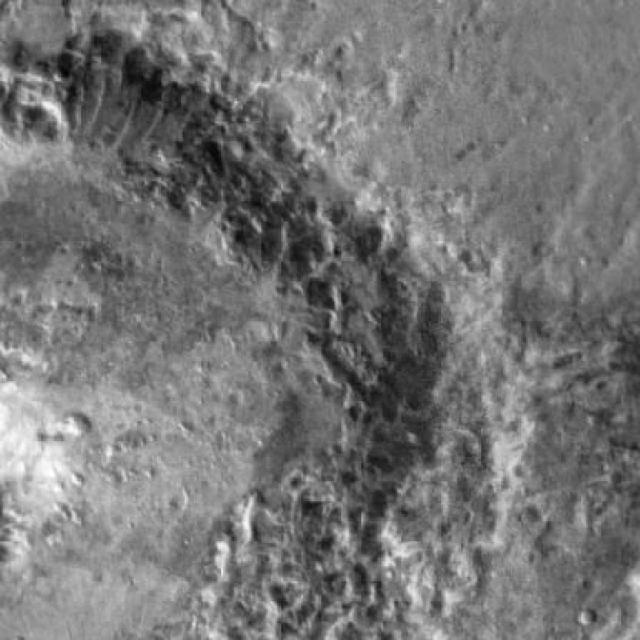crater: (0, 40, 415, 640), (277, 346, 640, 640), (564, 616, 584, 632)
